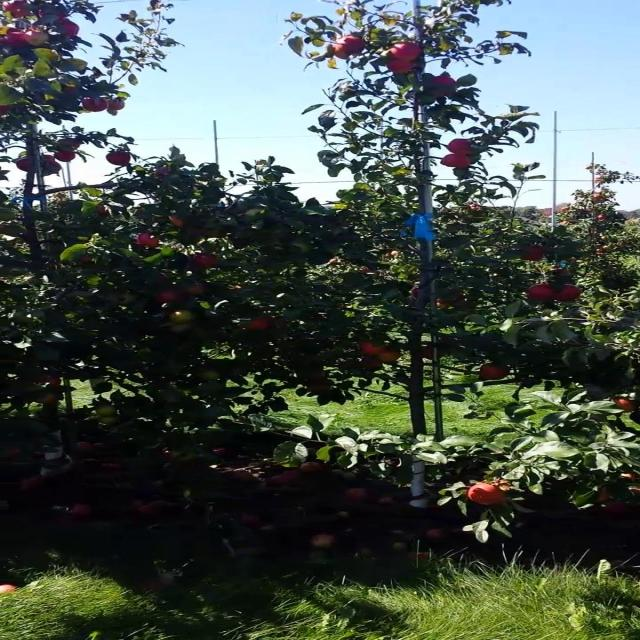apple: (468, 484, 508, 508), (433, 76, 460, 97), (390, 44, 425, 60), (525, 284, 555, 301), (483, 364, 512, 381), (340, 36, 368, 52), (106, 152, 135, 167), (554, 288, 583, 303), (447, 140, 476, 155), (440, 156, 475, 168), (28, 28, 50, 47), (56, 20, 80, 37), (390, 60, 416, 75), (6, 4, 32, 19), (305, 380, 332, 394), (141, 232, 164, 248), (611, 400, 638, 413), (191, 256, 220, 268), (6, 32, 27, 48), (156, 292, 183, 304), (376, 352, 402, 364), (525, 248, 548, 261), (170, 312, 194, 324), (490, 480, 514, 492), (440, 296, 464, 308), (84, 100, 107, 112), (205, 228, 228, 240), (596, 488, 613, 504), (333, 44, 350, 60), (56, 152, 78, 164), (362, 344, 384, 356), (184, 284, 206, 296), (248, 320, 272, 331), (106, 100, 128, 112), (604, 504, 629, 514), (42, 376, 64, 387), (63, 140, 84, 151), (362, 360, 384, 370), (618, 472, 639, 482), (99, 416, 121, 425), (170, 216, 185, 228), (49, 164, 64, 176), (198, 372, 220, 380), (99, 408, 121, 416), (184, 228, 206, 236), (170, 324, 192, 332), (291, 244, 313, 252), (42, 396, 59, 406), (20, 160, 32, 172), (156, 168, 171, 177), (99, 208, 114, 216), (77, 256, 92, 264), (42, 156, 57, 164), (156, 276, 171, 283), (426, 348, 434, 360), (412, 288, 421, 298), (63, 88, 78, 94), (8, 108, 12, 112)
